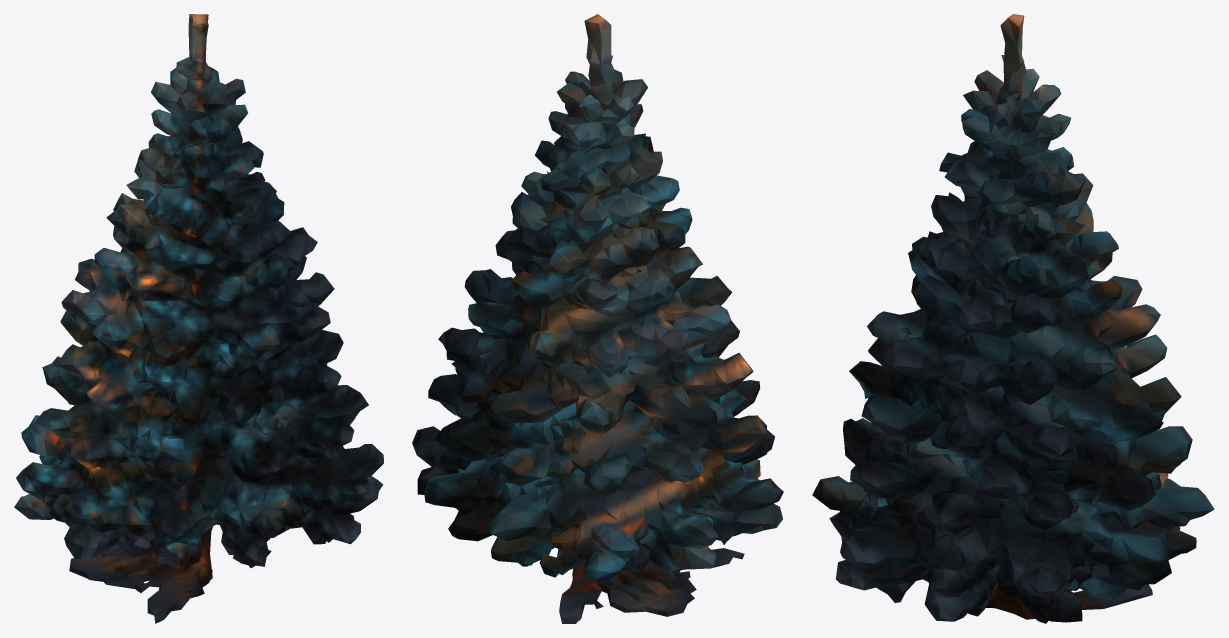
Rendered from pine.glb.
The picture shows the model from 3 angles, left to right: view 1: azimuth 30°, elevation 25°; view 2: azimuth 150°, elevation 25°; view 3: azimuth 270°, elevation 25°; orthographic projection. The views are drawn at different scales.
Parts seen in each view (by area): view 1: pine; view 2: pine; view 3: pine.
Boxes of the visible parts, left/top/right/bottom form: pine: left=14, top=14, right=383, bottom=623; pine: left=412, top=14, right=783, bottom=623; pine: left=812, top=14, right=1214, bottom=623.
Size of the model in its own units: 4.73 by 7.5 by 4.58.
Materials: 1 (1 with a texture image).
